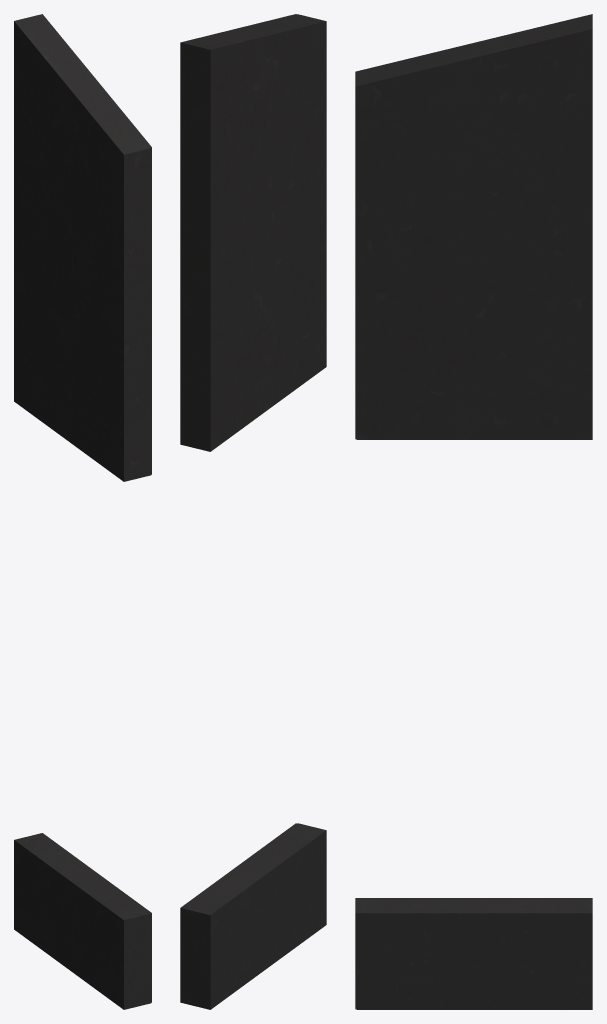
The model's file is A13.1.1 H.WALL. PNL 1910 UP + 450 DWN E3.fbx.
3 views of the same model, side by side, from view 1: azimuth 30°, elevation 25°; view 2: azimuth 150°, elevation 25°; view 3: azimuth 270°, elevation 25° (orthographic). The views are drawn at different scales.
Parts seen in each view (by area): view 1: Model, Group1; view 2: Model, Group1; view 3: Model, Group1.
Part boxes in pixels (x1,y1,x2,y2): Model: [14, 14, 151, 481]; Group1: [14, 833, 151, 1009]; Model: [180, 14, 326, 451]; Group1: [180, 823, 326, 1009]; Model: [355, 14, 592, 439]; Group1: [355, 898, 592, 1009].
Size of the model in its own units: 150 by 4560 by 1000.
